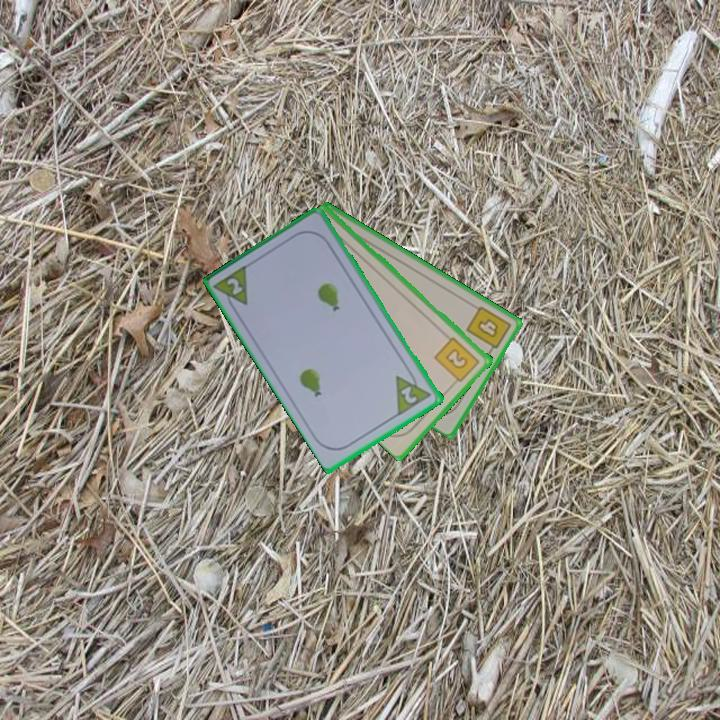2b: (431, 333, 483, 387)
2p: (211, 261, 251, 316), (397, 383, 421, 407)
4b: (463, 302, 514, 357)
